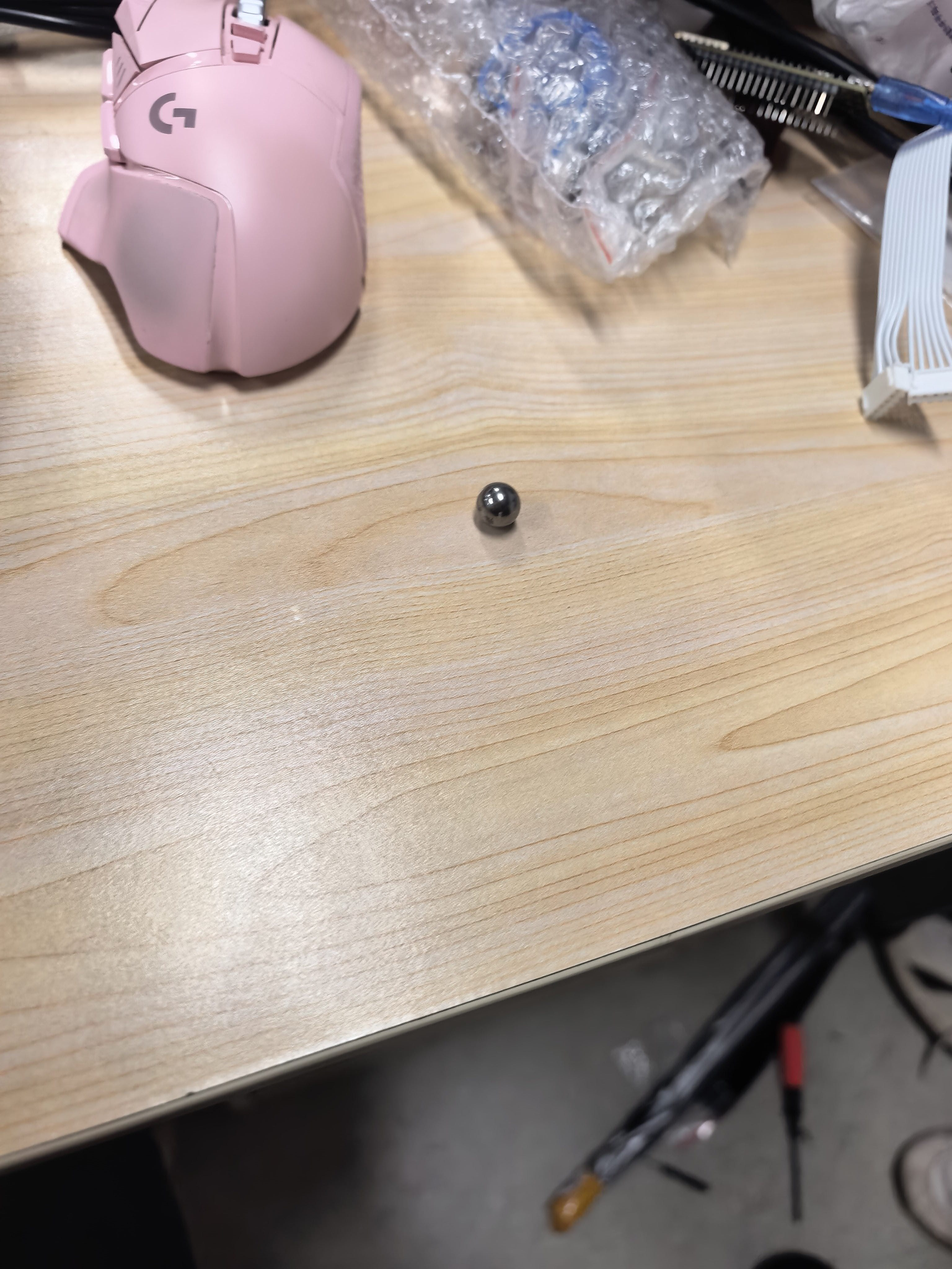ball: (473, 478, 523, 536)
